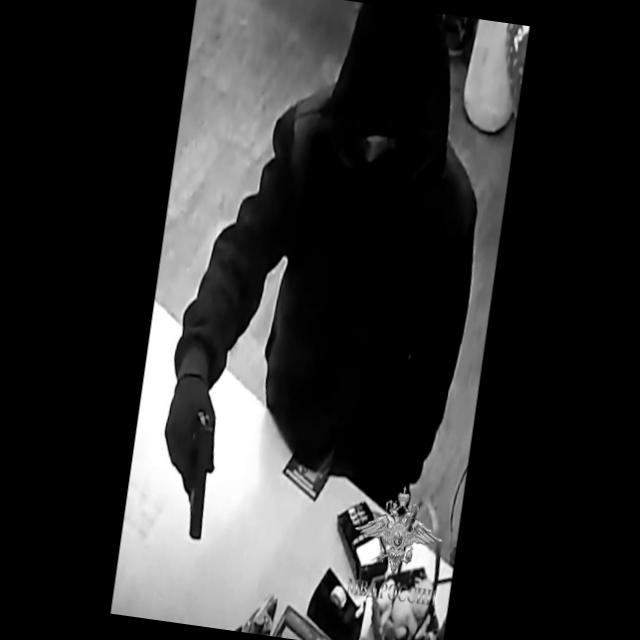gun: (148, 389, 225, 546)
person with a gun: (151, 7, 498, 575)
